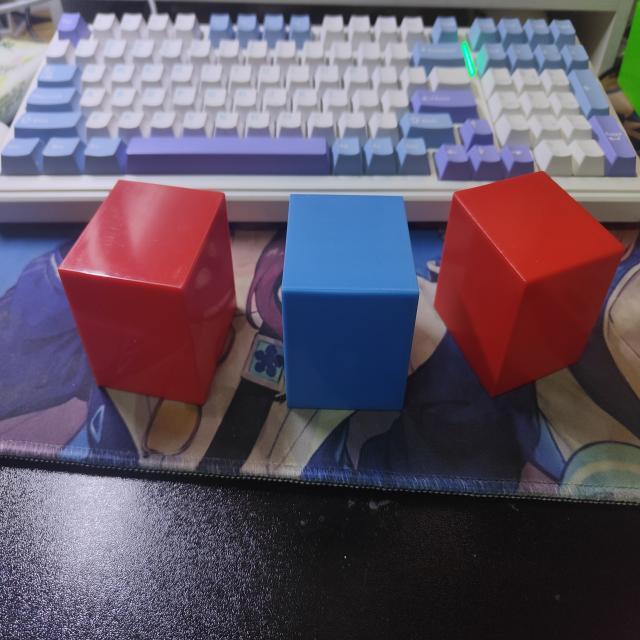blue: (282, 194, 419, 407)
red: (432, 170, 626, 399), (53, 181, 240, 403)
